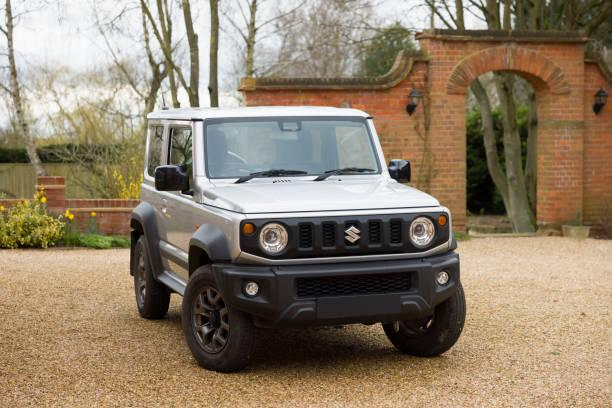suzuki: (339, 220, 366, 246)
